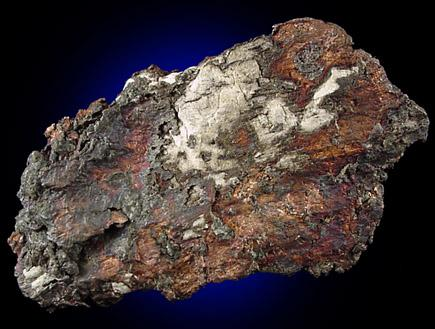silver: (174, 44, 307, 170), (309, 70, 352, 130)
